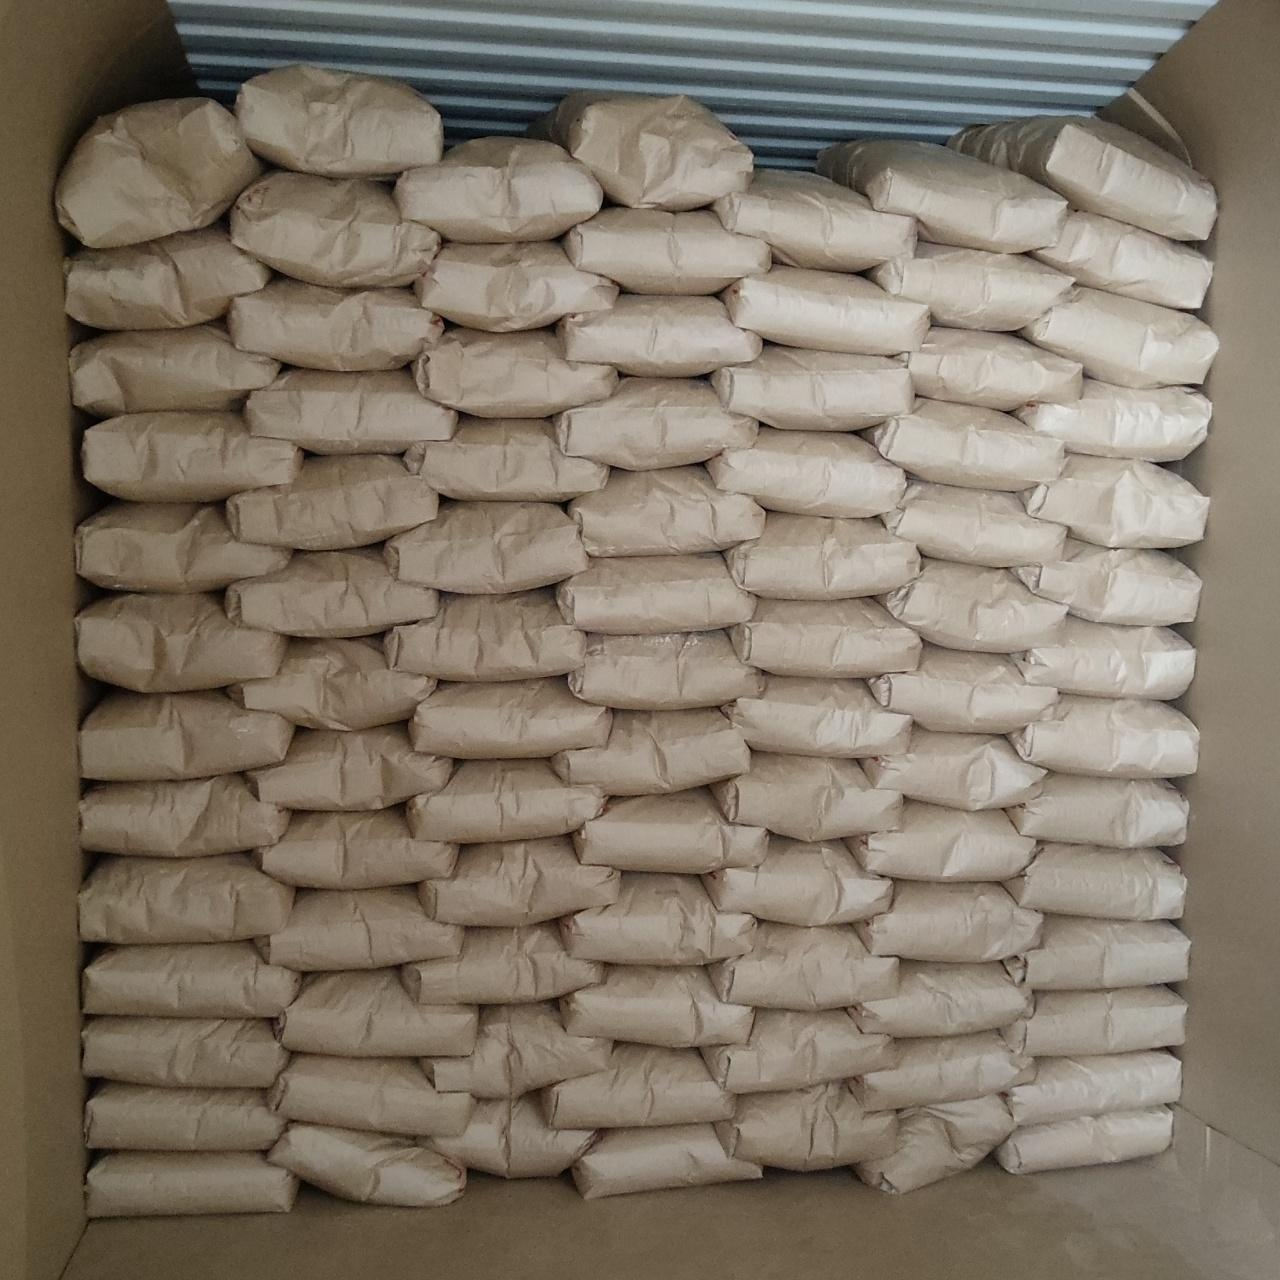sack: (950, 116, 1217, 239), (57, 98, 264, 246), (817, 141, 1066, 253), (528, 92, 752, 210), (230, 171, 439, 287), (234, 64, 442, 177), (393, 137, 603, 242), (66, 225, 272, 329), (713, 169, 917, 272), (76, 594, 286, 692), (227, 276, 443, 370), (1020, 286, 1218, 387), (227, 456, 438, 549), (83, 412, 303, 501), (78, 854, 294, 944), (81, 690, 295, 780), (70, 325, 281, 416), (229, 638, 436, 729), (77, 504, 291, 592), (721, 265, 929, 355), (385, 588, 586, 681), (862, 398, 1064, 490), (385, 502, 589, 593), (225, 550, 438, 637), (552, 380, 757, 470), (415, 242, 619, 332), (412, 329, 618, 417), (244, 368, 457, 453), (422, 1003, 612, 1098), (563, 207, 770, 294), (419, 836, 619, 926), (869, 242, 1073, 330), (568, 466, 764, 557), (1029, 213, 1212, 310), (562, 873, 754, 965), (878, 560, 1067, 653), (706, 427, 903, 516), (248, 724, 453, 809), (80, 775, 290, 857), (256, 887, 463, 970), (281, 970, 478, 1057), (724, 513, 921, 600), (709, 345, 913, 429), (1022, 455, 1208, 547), (701, 836, 891, 926), (711, 752, 903, 840), (551, 710, 749, 795), (707, 922, 898, 1010), (404, 419, 608, 501), (406, 759, 605, 843), (251, 809, 458, 889), (556, 294, 760, 375), (542, 1044, 736, 1129), (409, 677, 612, 758), (1010, 539, 1201, 625), (84, 941, 300, 1017), (269, 1055, 474, 1135), (401, 922, 600, 1004), (269, 1124, 465, 1206), (574, 789, 765, 873), (867, 648, 1058, 732), (715, 1082, 897, 1170), (556, 554, 755, 634), (701, 1010, 892, 1093), (1007, 695, 1197, 778), (880, 482, 1065, 567), (562, 966, 753, 1047), (1017, 380, 1210, 460), (847, 801, 1035, 882), (1009, 617, 1194, 699), (725, 676, 912, 757), (859, 729, 1046, 810), (857, 1095, 1013, 1192), (729, 598, 920, 677), (897, 328, 1081, 409), (568, 631, 759, 709), (421, 1092, 594, 1177), (856, 883, 1042, 962), (82, 1017, 289, 1087), (571, 1123, 762, 1198), (850, 1032, 1032, 1110), (86, 1151, 298, 1217), (849, 961, 1032, 1037), (1002, 845, 1185, 920), (86, 1082, 286, 1150), (1003, 1050, 1180, 1126), (1003, 917, 1189, 989), (1010, 774, 1188, 848), (1002, 986, 1186, 1057), (994, 1107, 1172, 1174)
